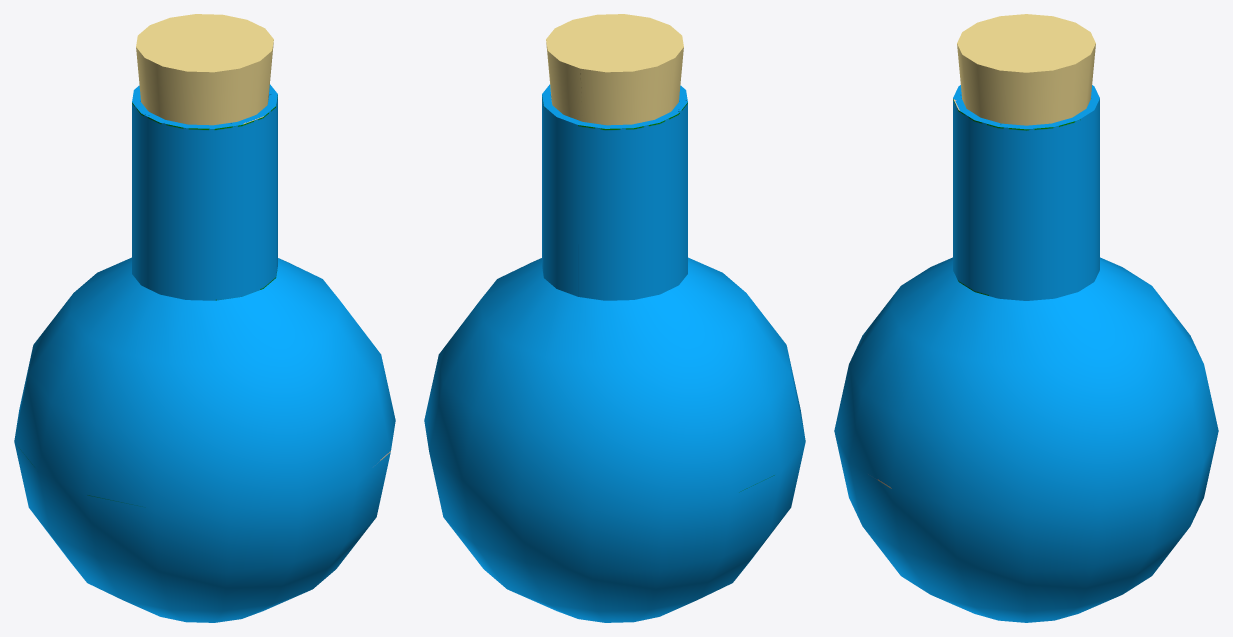
File: SmallHealth.obj
3 renders of one model, left to right at view 1: azimuth 30°, elevation 25°; view 2: azimuth 150°, elevation 25°; view 3: azimuth 270°, elevation 25°, orthographic.
Parts seen in each view (by area): view 1: Sphere; view 2: Sphere; view 3: Sphere.
Boxes of the visible parts, x1,y1,x2,y2 form: Sphere: (14, 14, 395, 622); Sphere: (424, 14, 805, 622); Sphere: (834, 14, 1218, 622).
Bounding box in the file's own units: 2 × 3.22 × 2.
